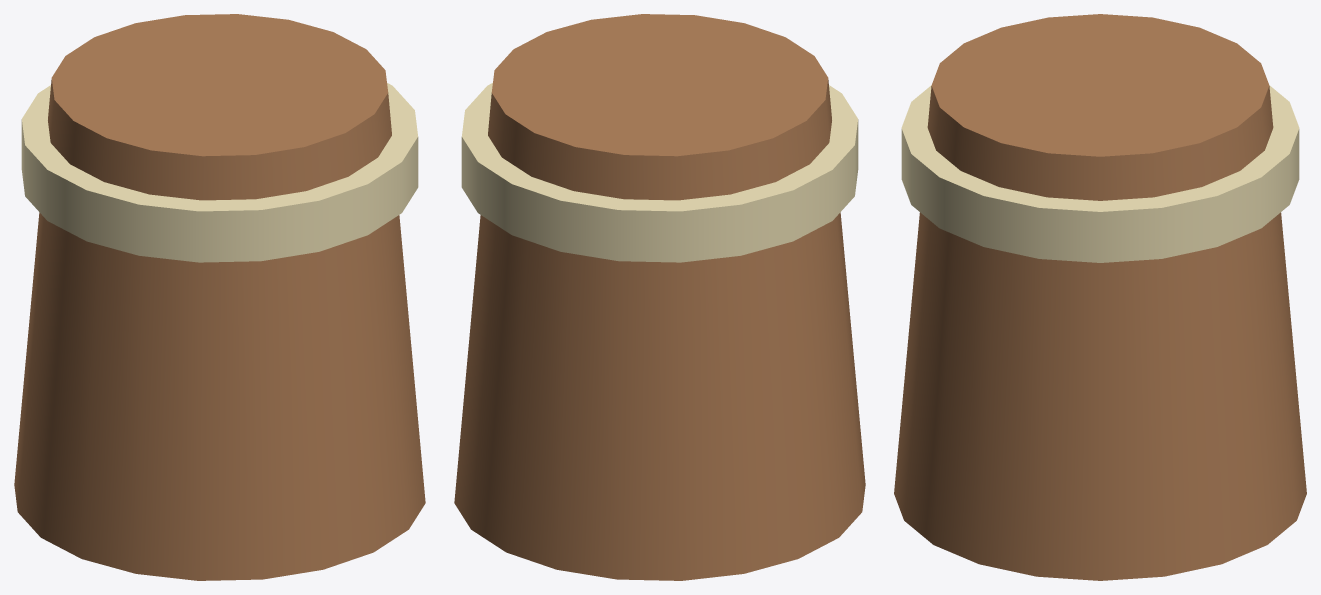
File: Copo.glb
3 renders of one model, left to right at view 1: azimuth 30°, elevation 25°; view 2: azimuth 150°, elevation 25°; view 3: azimuth 270°, elevation 25°, orthographic.
Parts seen in each view (by area): view 1: Copo; view 2: Copo; view 3: Copo.
Boxes of the visible parts, x1=… form: Copo: x1=14, y1=14, x2=425, y2=580; Copo: x1=454, y1=14, x2=865, y2=580; Copo: x1=894, y1=14, x2=1306, y2=580.
Size of the model in its own units: 0.11 by 0.12 by 0.11.
